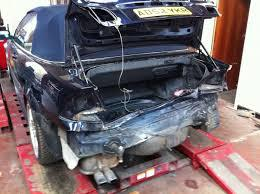rear-bumper-dent: (105, 92, 212, 146)
